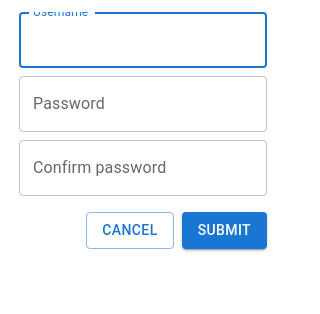
Scenario: has strong password validation Password must be at least 8 characters
The image size is (320, 314).
Type "2short" into the password field labelled "Password".
click(143, 104); type("2short")  # box [19,76,267,132]
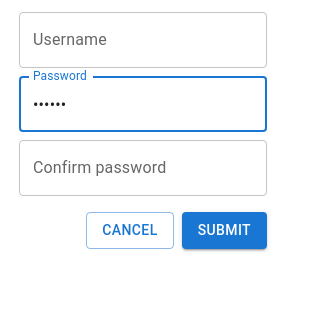
Click the button "Submit".
click(224, 230)  # box [182,212,267,248]
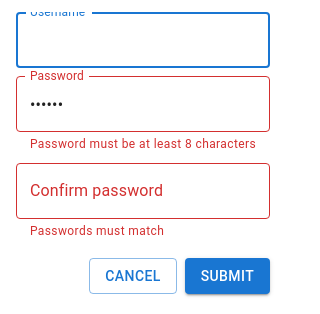
Expected: the text "Password must be at least 8 characters" is shown, [30,135,256,155]
